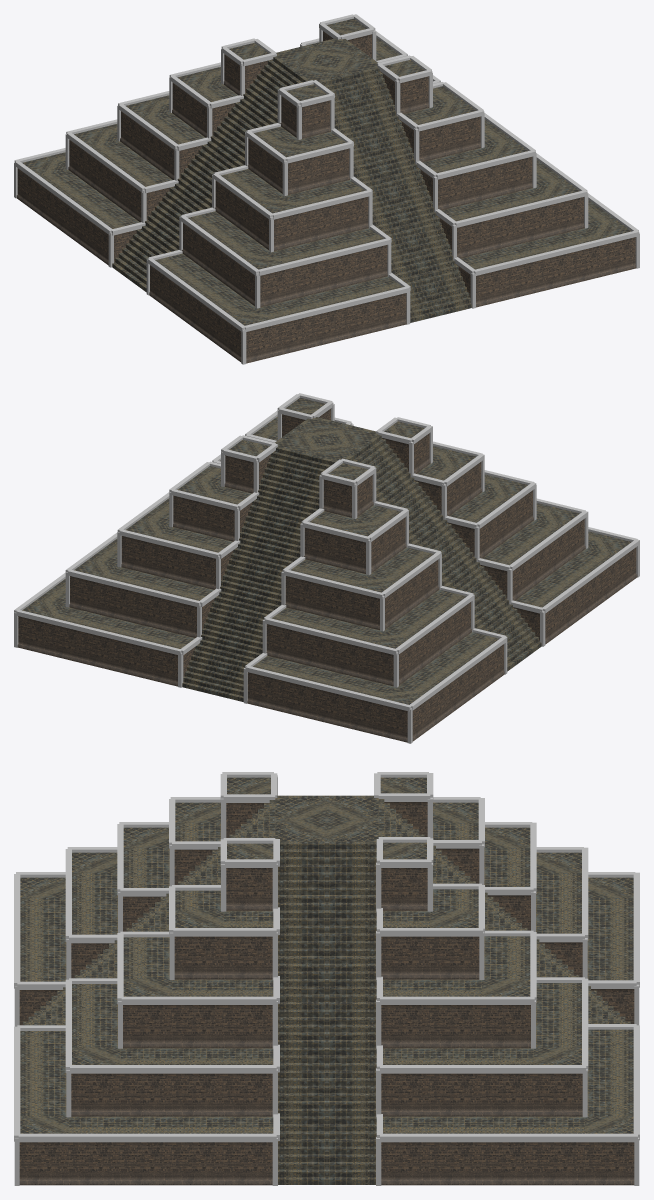
The model's file is m_temple_pyramid_simple_01.fbx.
3 renders of one model, top to bottom at view 1: azimuth 30°, elevation 25°; view 2: azimuth 150°, elevation 25°; view 3: azimuth 270°, elevation 25°, orthographic. The views are drawn at different scales.
Visible parts, largest first — view 1: m_pyramid_simple_floors, m_pyramid_simple_walls, m_pyramid_simple_beams; view 2: m_pyramid_simple_floors, m_pyramid_simple_walls, m_pyramid_simple_beams; view 3: m_pyramid_simple_floors, m_pyramid_simple_walls, m_pyramid_simple_beams.
Boxes of the visible parts, x1,y1,x2,y2 form: m_pyramid_simple_floors: [22, 18, 631, 325]; m_pyramid_simple_walls: [16, 31, 636, 363]; m_pyramid_simple_beams: [14, 14, 639, 364]; m_pyramid_simple_floors: [22, 397, 631, 704]; m_pyramid_simple_walls: [17, 408, 637, 742]; m_pyramid_simple_beams: [14, 393, 639, 743]; m_pyramid_simple_floors: [20, 777, 633, 1184]; m_pyramid_simple_walls: [19, 802, 634, 1185]; m_pyramid_simple_beams: [14, 772, 639, 1185].
Bounding box in the file's own units: 4850 × 2025 × 4850.
